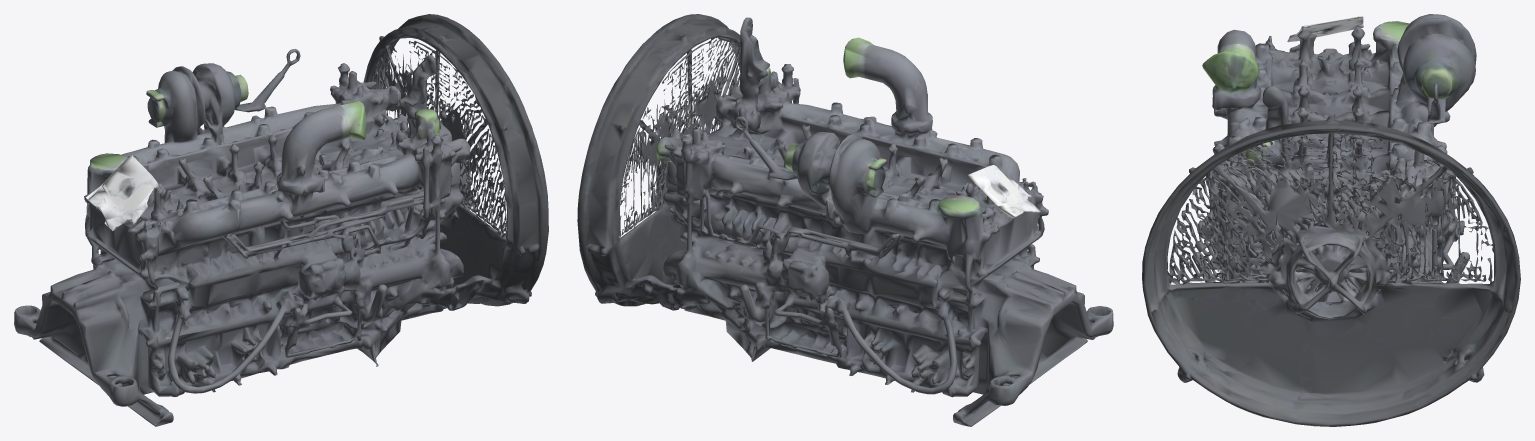
Rendered from motor-isuzu-6bg1.glb.
3 renders of one model, left to right at view 1: azimuth 30°, elevation 25°; view 2: azimuth 150°, elevation 25°; view 3: azimuth 270°, elevation 25°, orthographic. The views are drawn at different scales.
Bounding box in the file's own units: 1.9 × 1.22 × 1.35.
1 material, 1 textured.
